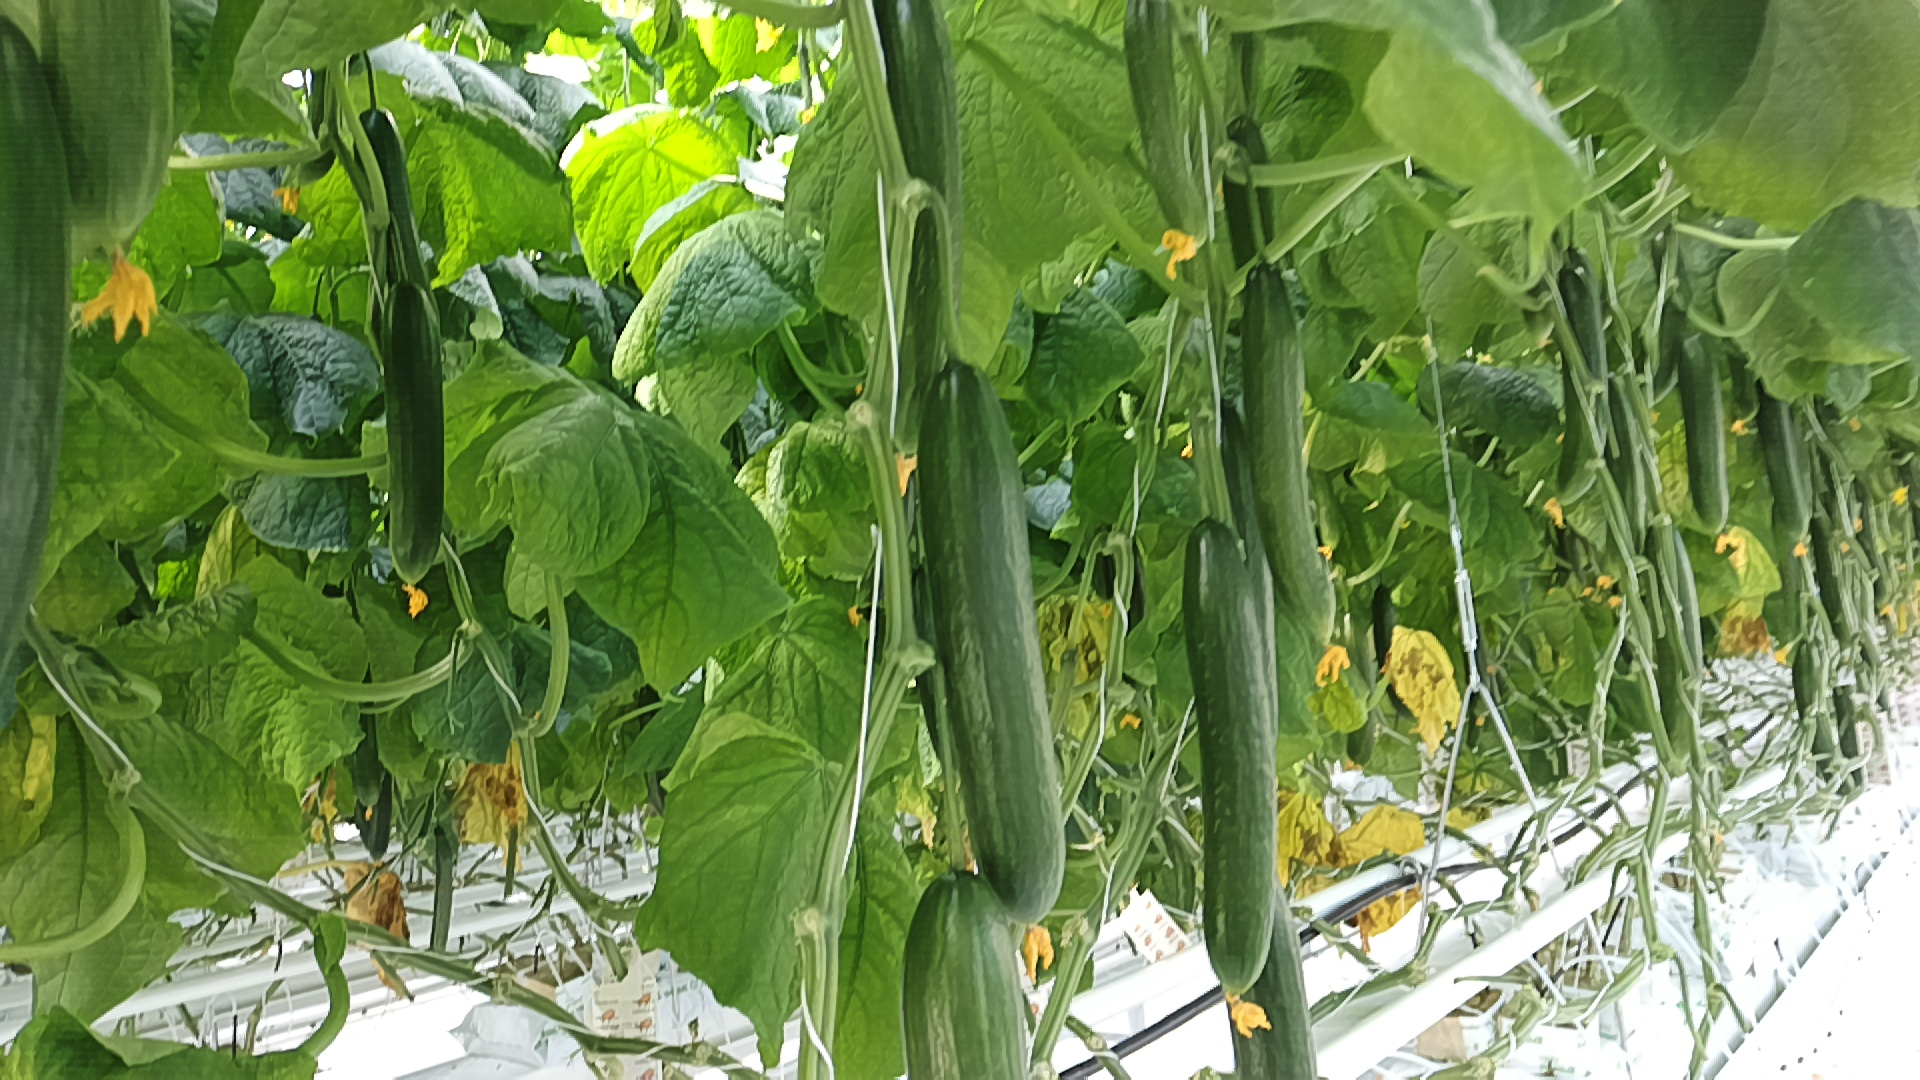gurka: (909, 363, 1083, 915), (1234, 249, 1370, 630), (1183, 520, 1276, 1000), (375, 278, 448, 593), (1667, 326, 1734, 538), (1743, 375, 1821, 550)
